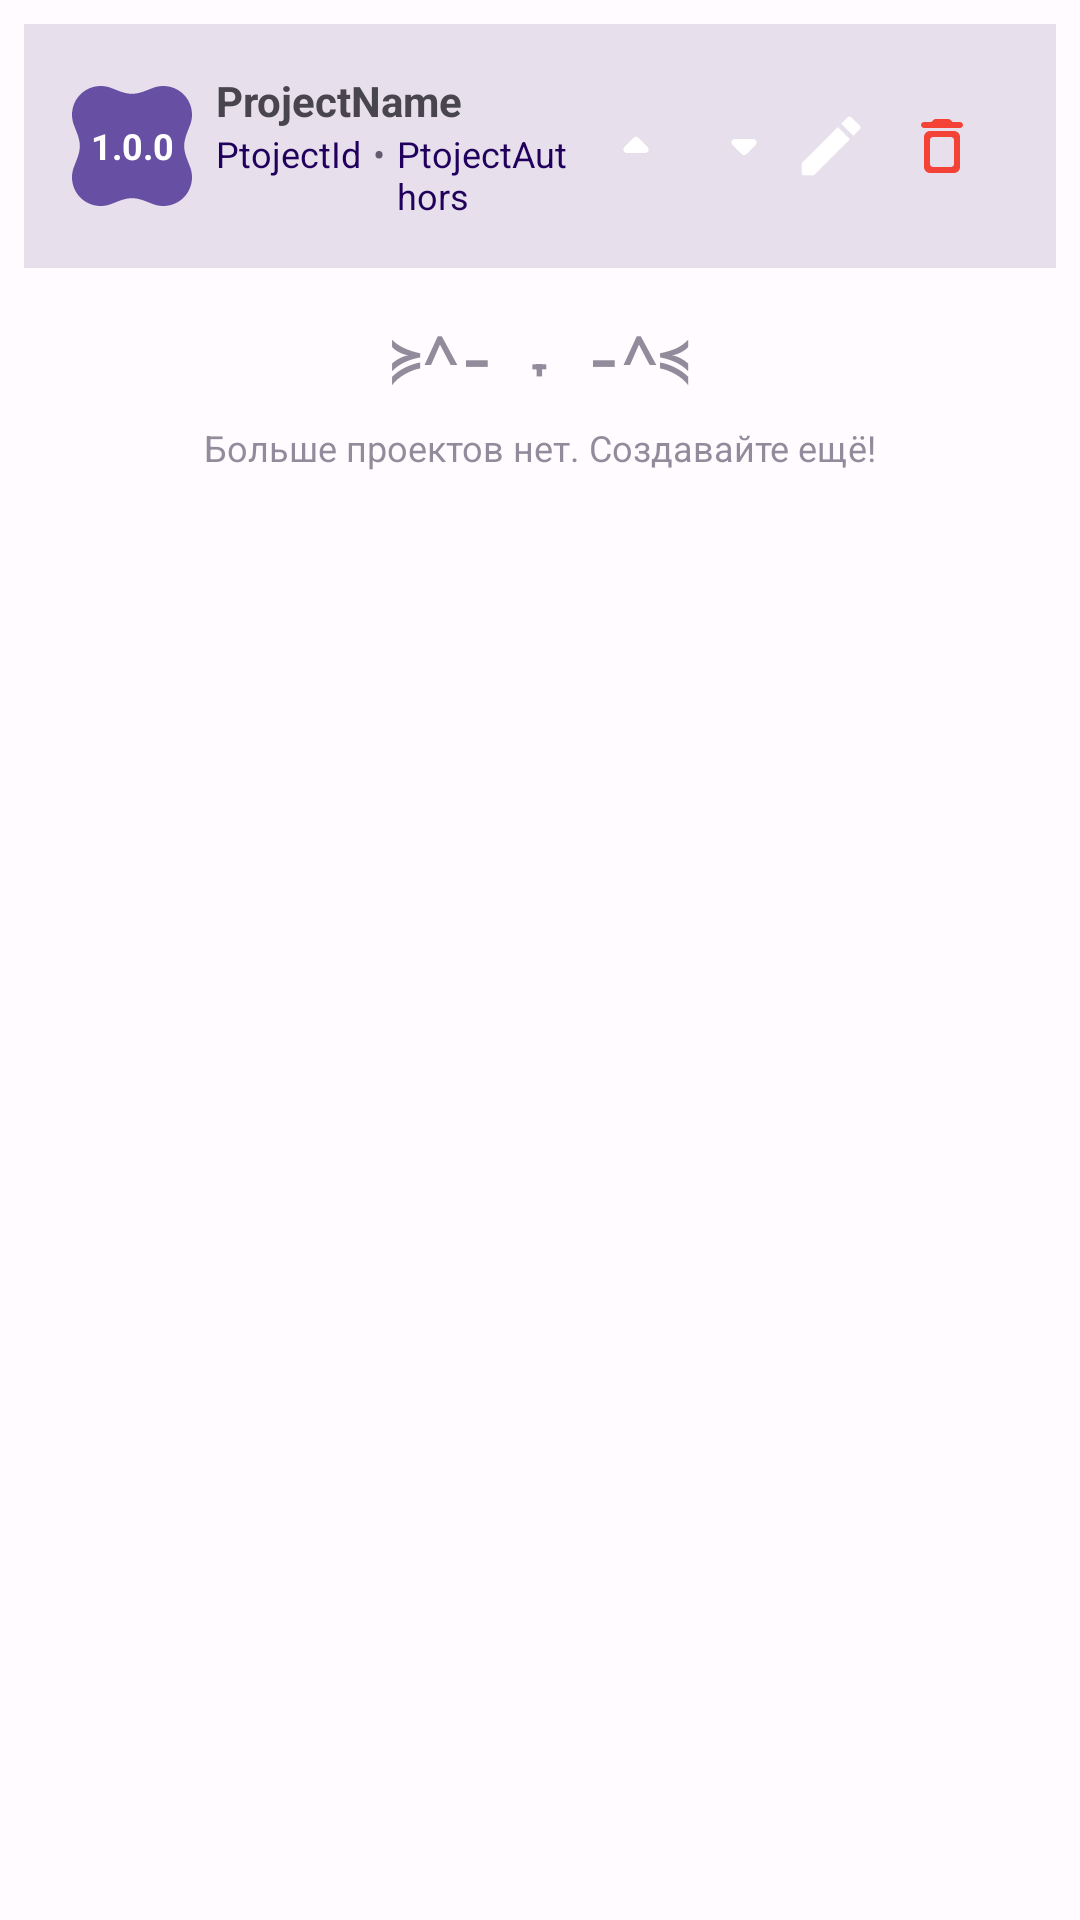

Where icons sit on this 1080*1920 app screen, as [x1,y1,x2,y2]:
arrow drop down round: [732,139,756,155]
create round: [802,117,860,175]
delete round: [921,119,963,173]
